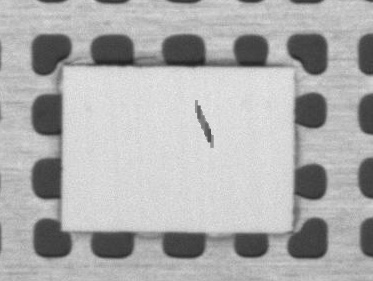DIE_INK: (190, 98, 216, 149)
